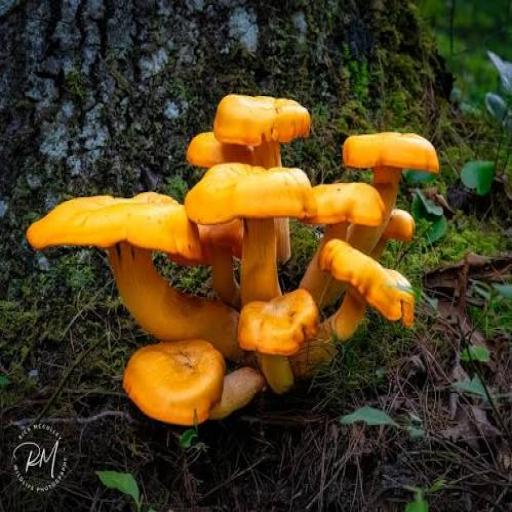Jack O Lantern Mushroom: (22, 187, 257, 355), (183, 162, 314, 294), (117, 334, 271, 436), (315, 237, 419, 349), (287, 176, 381, 297), (206, 88, 315, 184), (235, 291, 326, 395), (341, 126, 427, 236), (366, 201, 420, 266), (177, 128, 234, 174)
